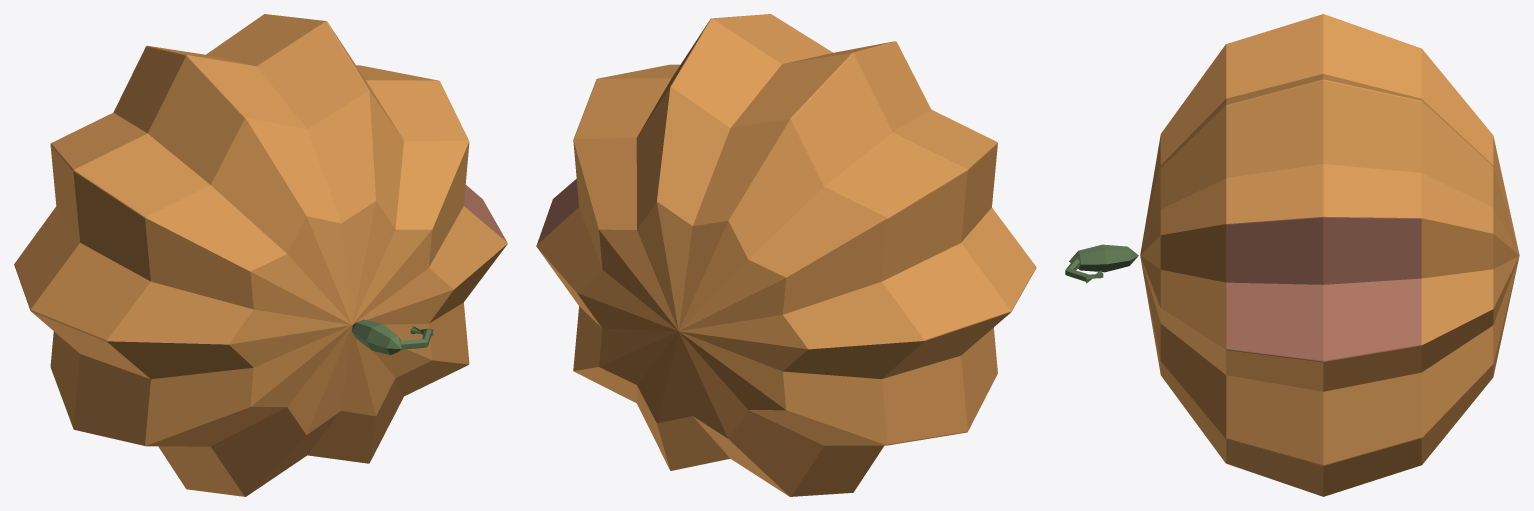
File: pumpkin.glb
3 views of the same model, side by side, from view 1: azimuth 30°, elevation 25°; view 2: azimuth 150°, elevation 25°; view 3: azimuth 270°, elevation 25° (orthographic). The views are drawn at different scales.
Visible parts, largest first — view 1: pumpkin; view 2: pumpkin; view 3: pumpkin.
Part boxes in pixels (left/top/right/bottom): pumpkin: left=14, top=14, right=507, bottom=496; pumpkin: left=536, top=14, right=1036, bottom=496; pumpkin: left=1065, top=14, right=1519, bottom=496.
Bounding box in the file's own units: 0.2152 × 0.1972 × 0.1945.
